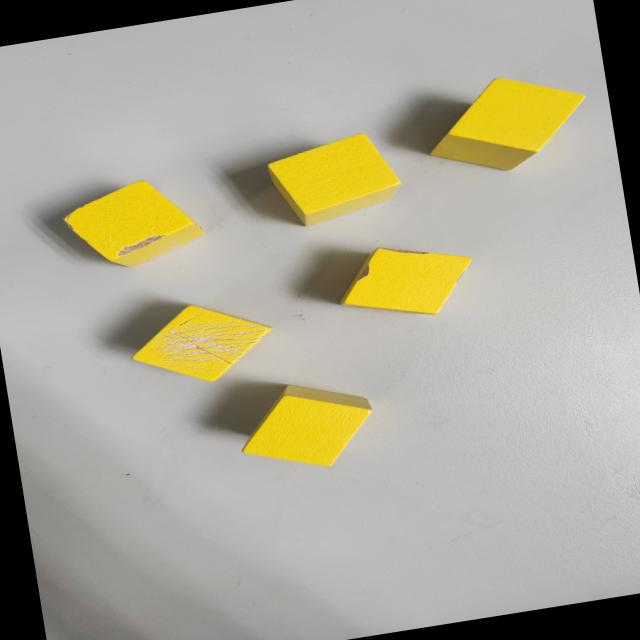broken: (54, 171, 210, 277), (122, 292, 282, 394), (328, 234, 481, 330)
yellow: (414, 64, 596, 184), (232, 371, 380, 483), (262, 128, 407, 232)
